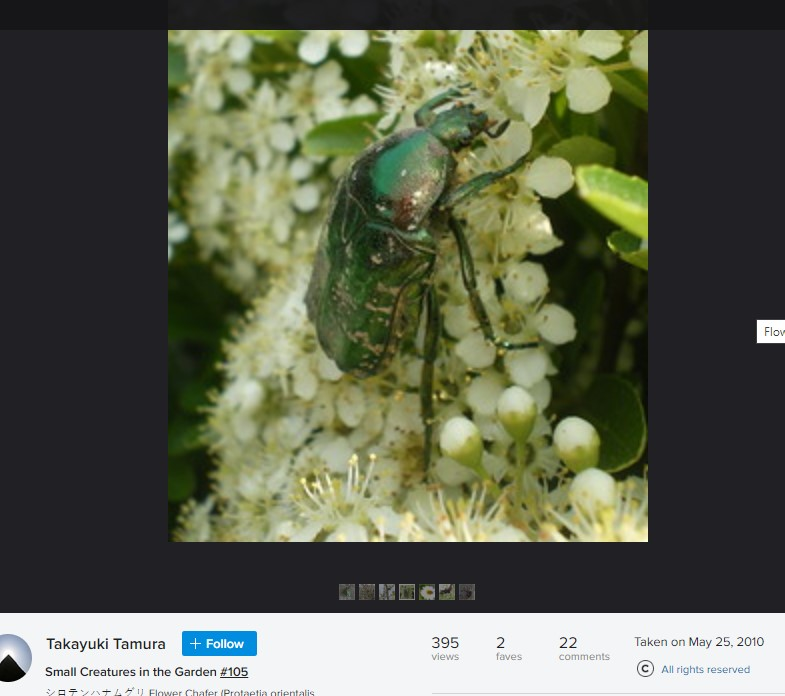Protaetia _orientalis: (301, 80, 554, 486)
